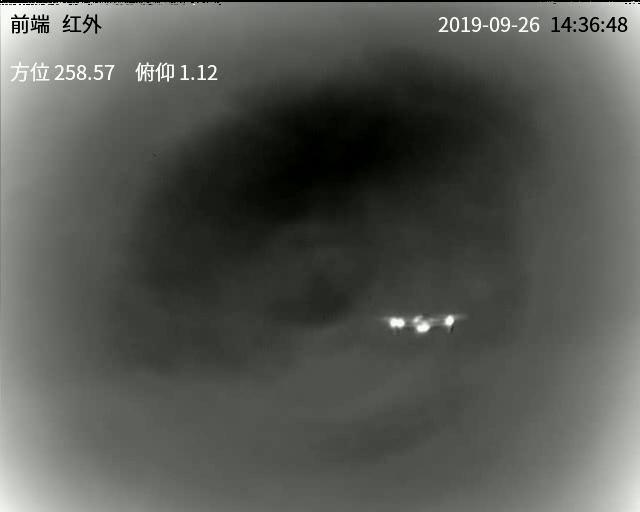DRONE: (389, 312, 456, 336)
